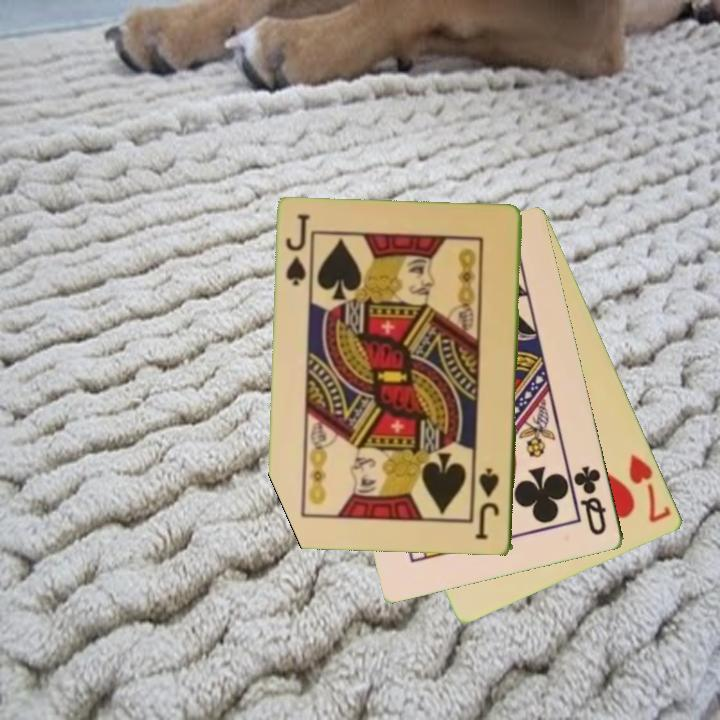7h: (626, 450, 675, 526)
Js: (283, 211, 313, 289), (475, 465, 502, 543)
Qc: (570, 463, 610, 539)
